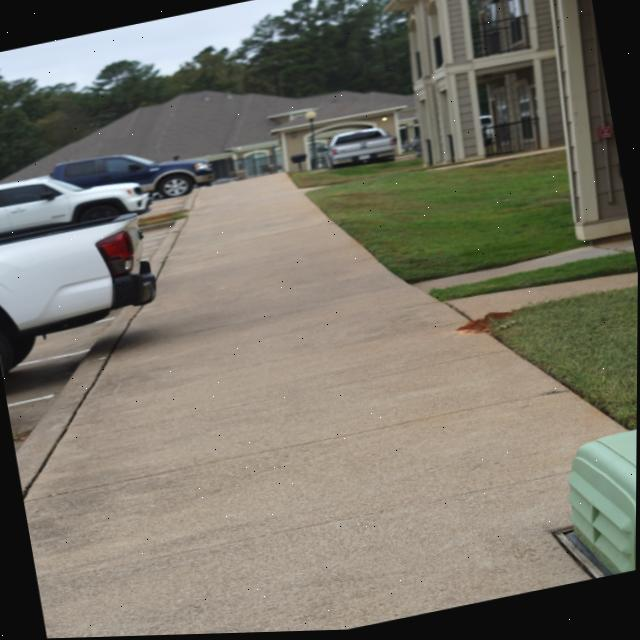Automobile: (0, 213, 156, 375), (0, 176, 150, 236), (50, 155, 214, 198), (327, 130, 395, 169)
Obstacle: (553, 433, 637, 582)
Road: (3, 317, 114, 451), (140, 222, 178, 261), (143, 200, 185, 217)
Sidewalk: (24, 176, 623, 639), (413, 239, 635, 295), (444, 275, 638, 322)
